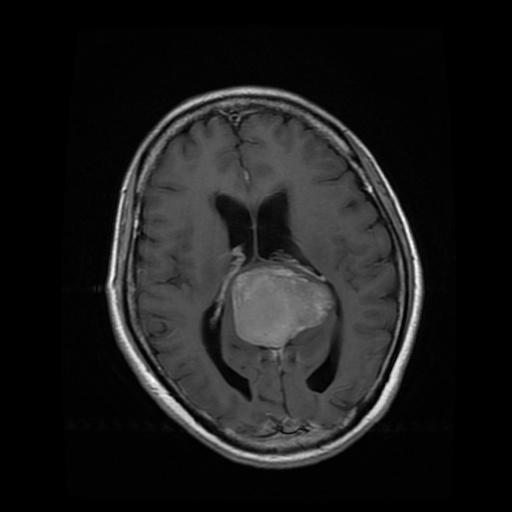meningioma: (231, 266, 334, 348)
